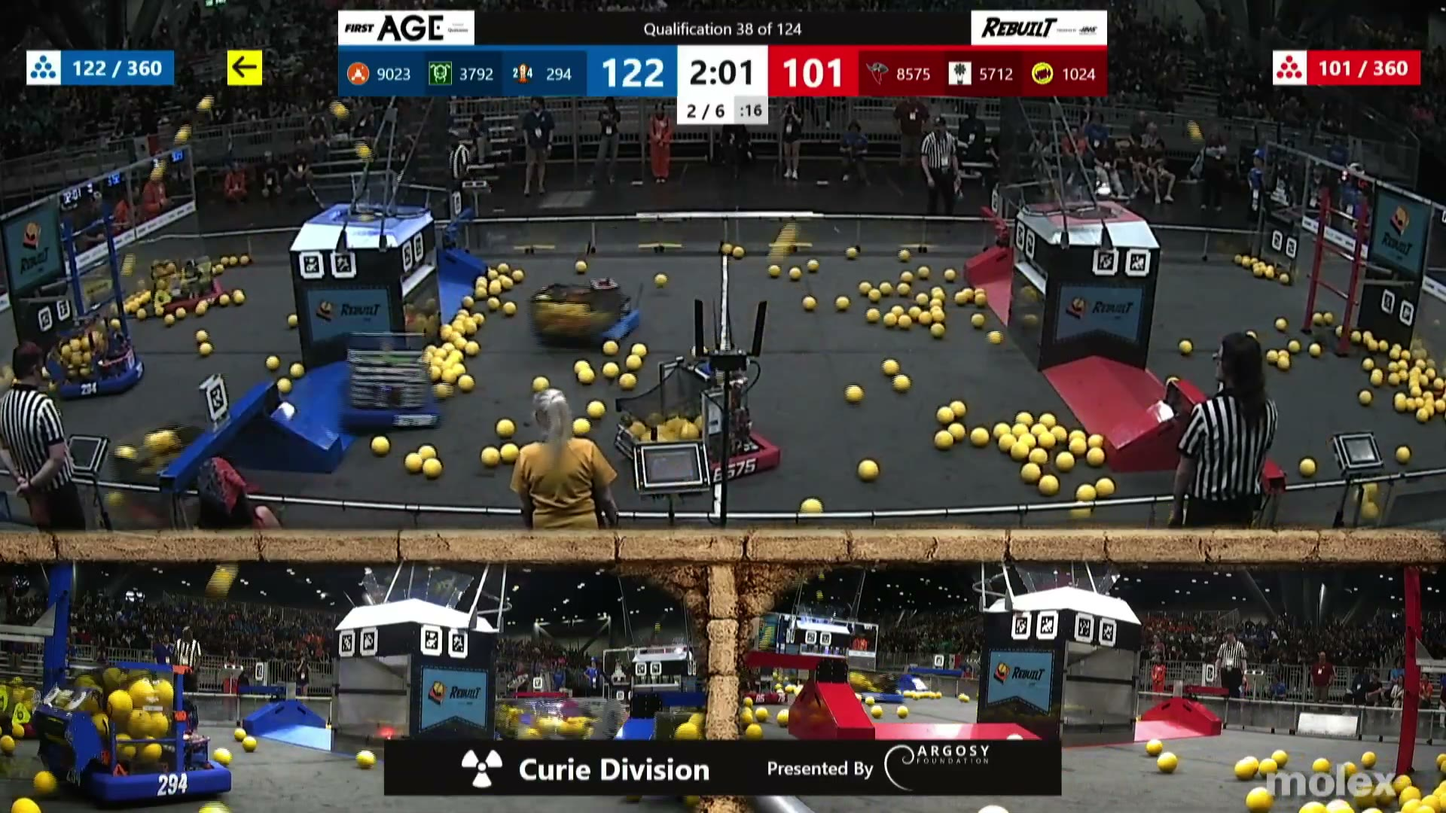robot-detect: (619, 369, 775, 505), (62, 694, 234, 813), (351, 335, 458, 425), (543, 260, 651, 348), (144, 228, 225, 317), (499, 688, 604, 753), (59, 330, 150, 398), (665, 705, 715, 773)
